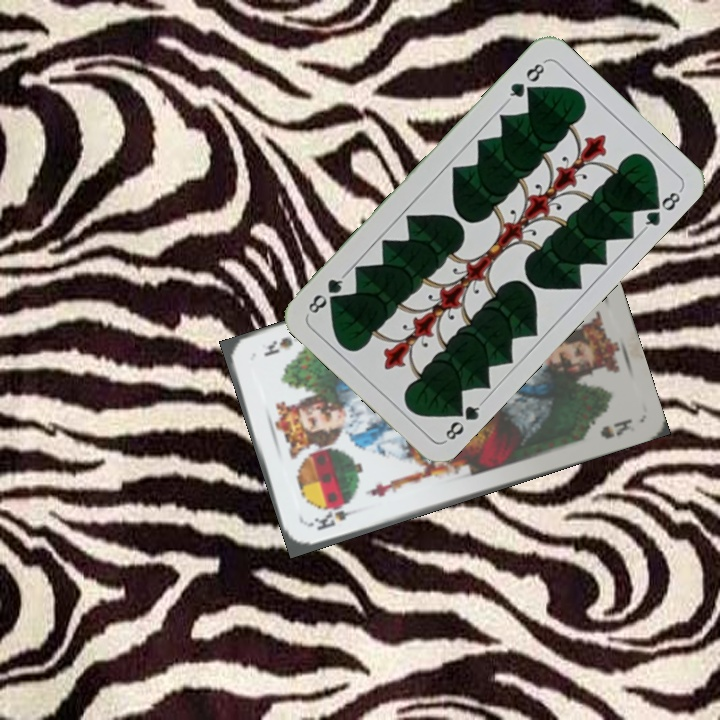G8: (503, 57, 548, 104), (441, 397, 486, 444)
SK: (305, 504, 363, 533)
